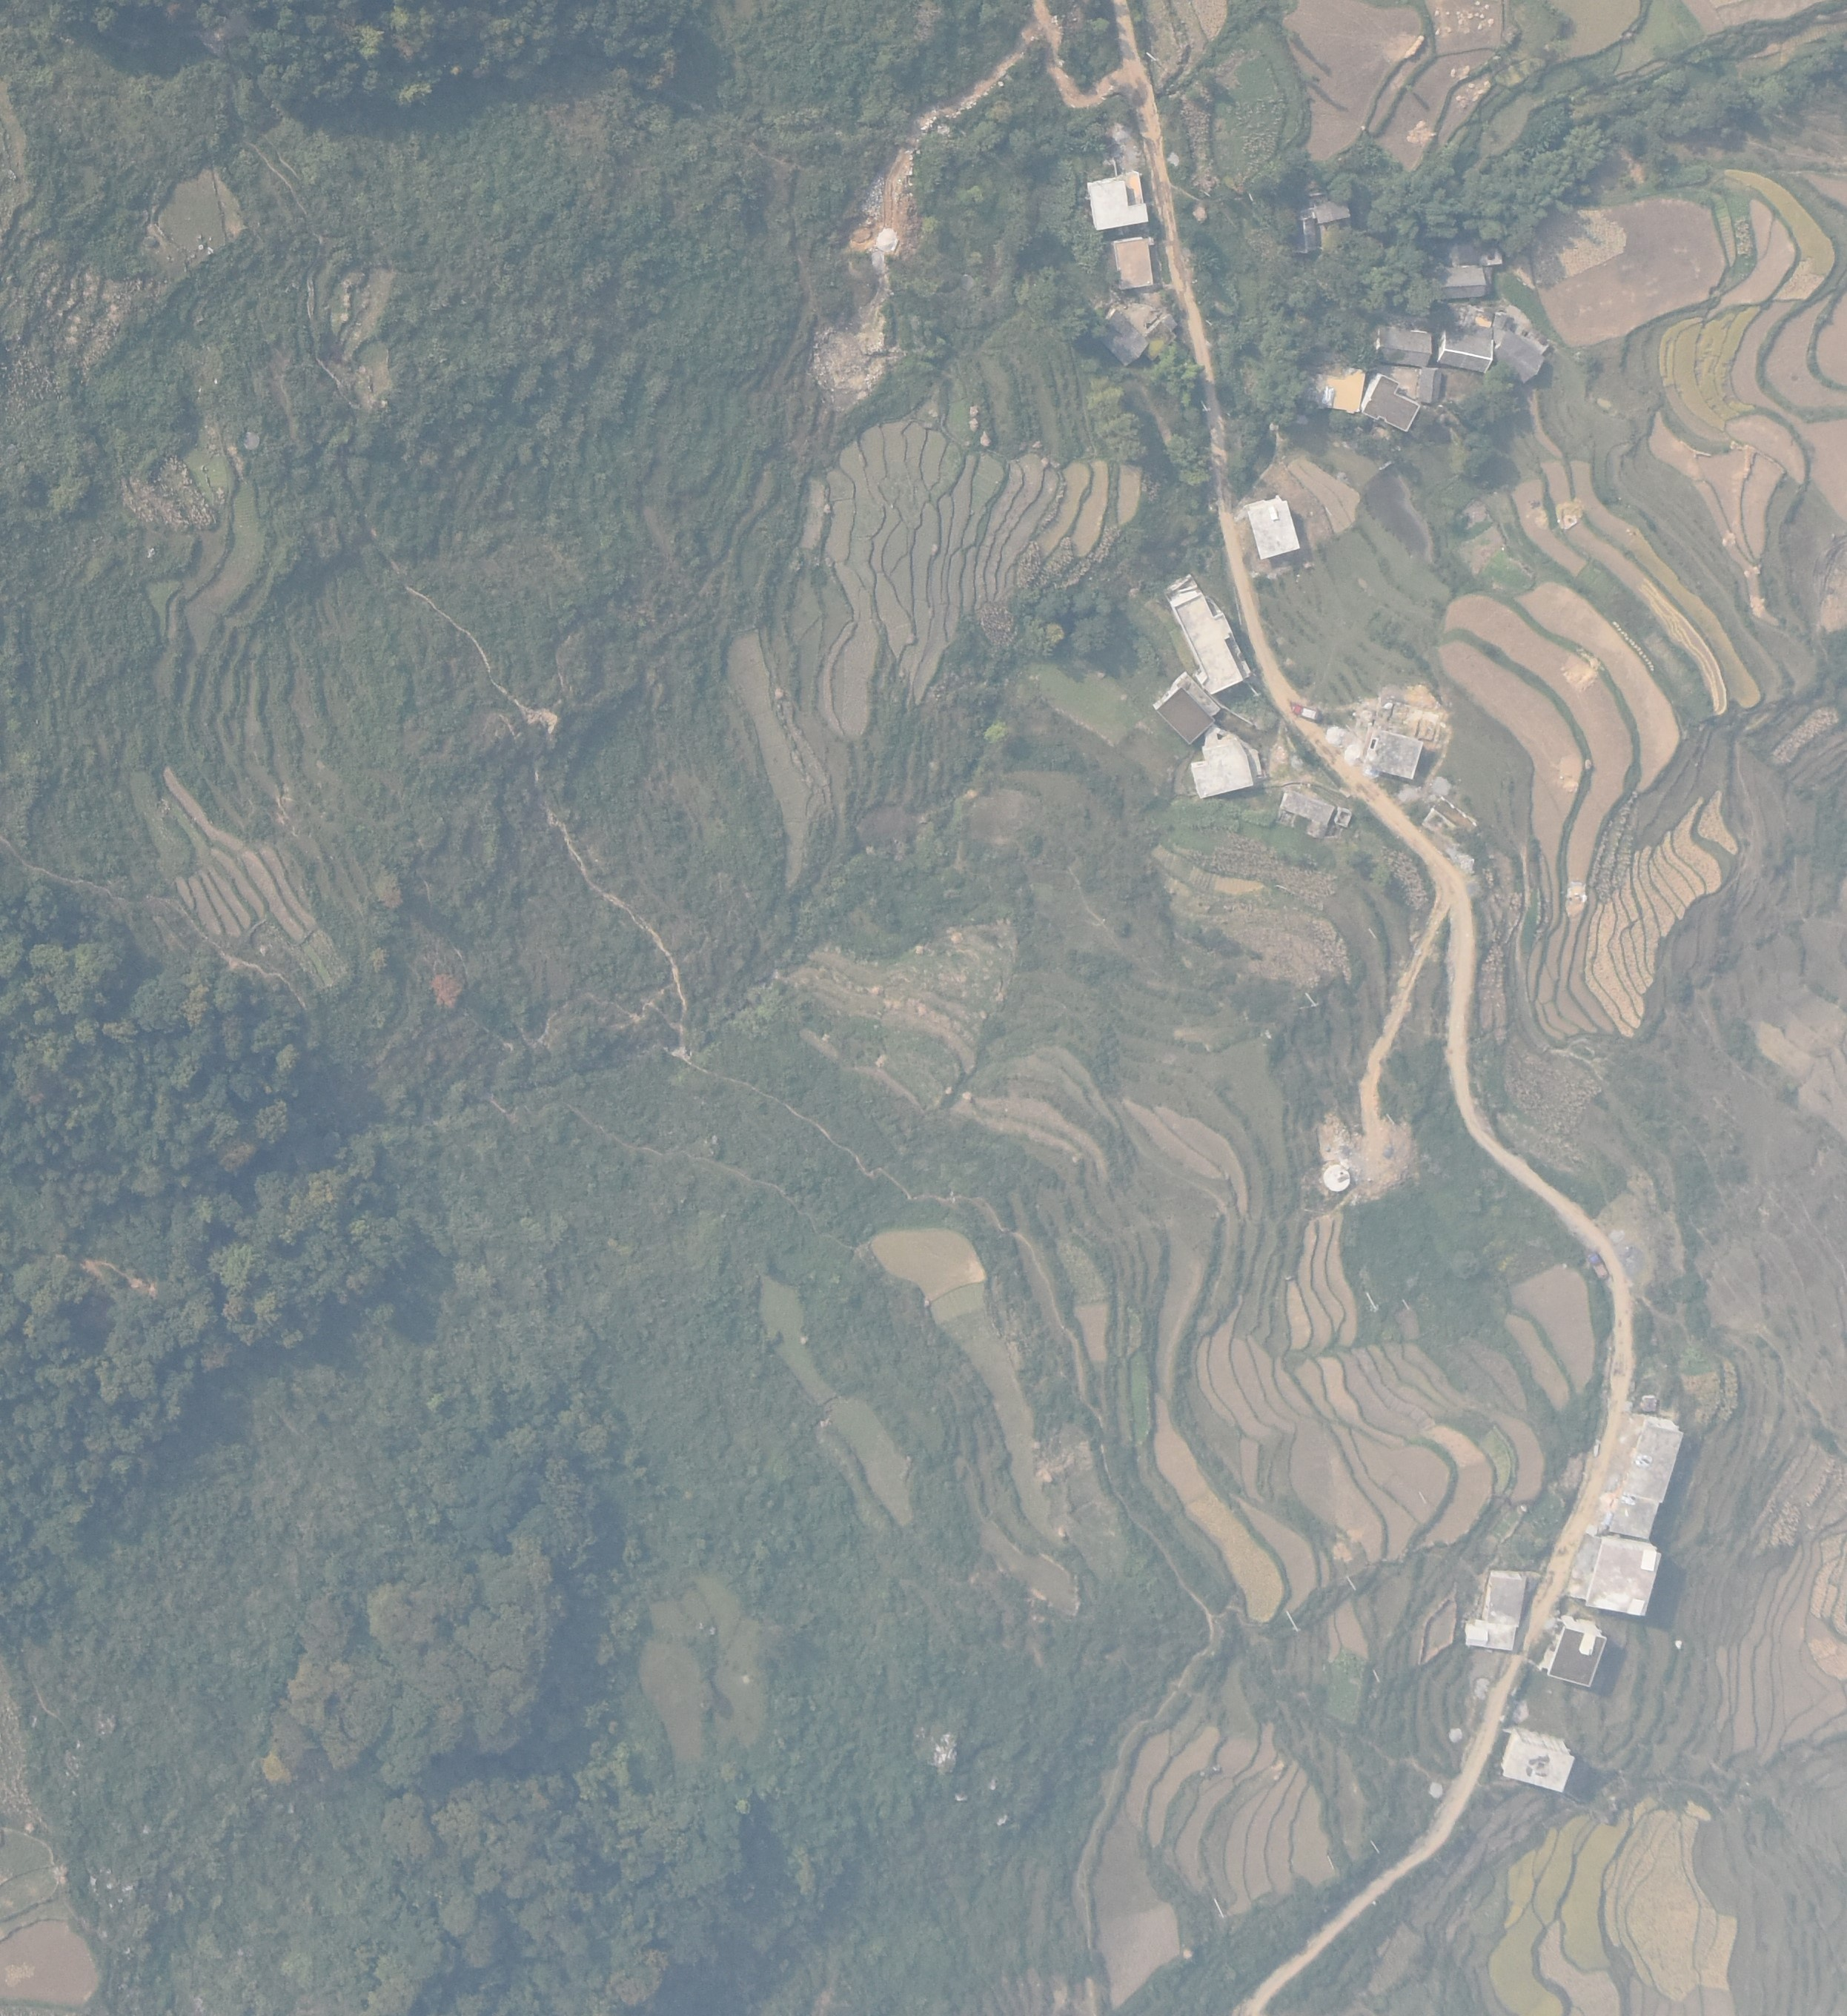building: (1164, 572, 1252, 695), (1606, 1417, 1684, 1540), (1584, 1537, 1661, 1617), (1466, 1570, 1526, 1652), (1501, 1730, 1575, 1796), (1152, 673, 1220, 743), (1547, 1616, 1608, 1688), (1190, 738, 1261, 799), (1087, 169, 1148, 232), (1361, 372, 1420, 432), (1247, 495, 1301, 560), (1361, 727, 1424, 781), (1097, 307, 1150, 369), (1491, 330, 1545, 385), (1108, 235, 1155, 290), (1373, 325, 1433, 367), (1317, 365, 1366, 414), (1436, 332, 1494, 372), (1278, 792, 1336, 831), (1436, 265, 1487, 300), (1294, 214, 1322, 253), (1419, 365, 1441, 406), (1313, 200, 1352, 223), (1334, 806, 1352, 827)
cable-tower: (1247, 680, 1262, 699), (1199, 399, 1210, 411), (1204, 318, 1213, 327)
vehicle: (1290, 704, 1319, 722)
well: (1324, 1164, 1350, 1194)
